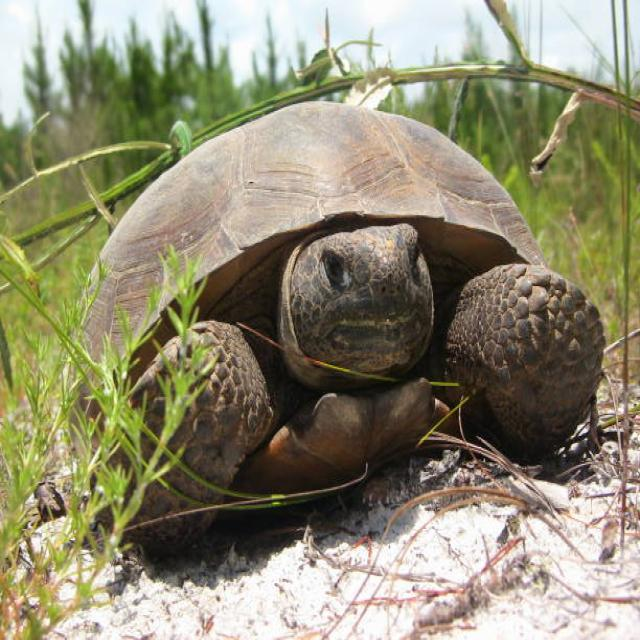tortoise: (42, 66, 598, 562), (227, 321, 487, 527), (450, 240, 626, 482), (95, 316, 257, 540), (290, 194, 429, 385)
